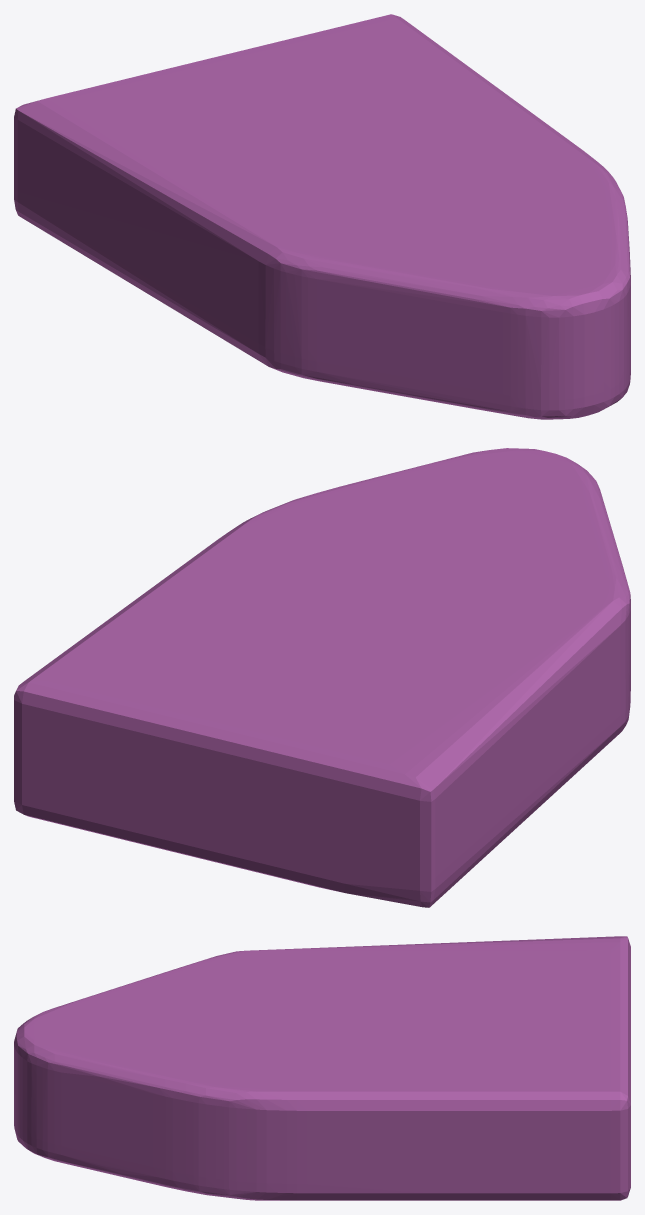
File: right_knee_link_part_7.obj
3 views of the same model, one above another, from view 1: azimuth 30°, elevation 25°; view 2: azimuth 150°, elevation 25°; view 3: azimuth 270°, elevation 25° (orthographic). The views are drawn at different scales.
Size of the model in its own units: 0.0756 by 0.023 by 0.1176.
